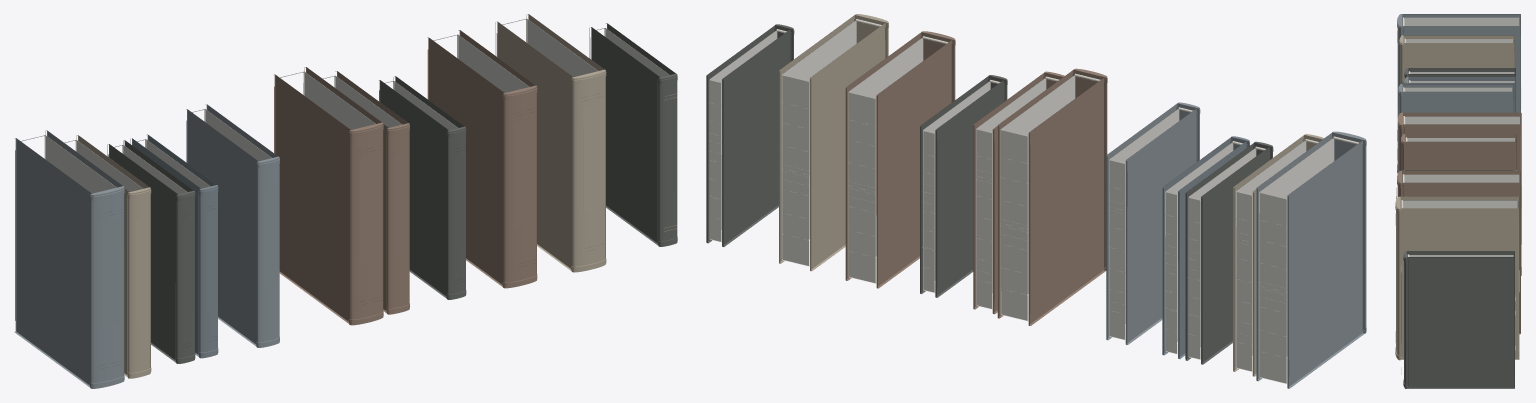
File: X14_LRSGRAY_BOOKS_S00_bk0.glb
The picture shows the model from 3 angles, left to right: view 1: azimuth 30°, elevation 25°; view 2: azimuth 150°, elevation 25°; view 3: azimuth 270°, elevation 25°; orthographic projection. The views are drawn at different scales.
Parts seen in each view (by area): view 1: S01_DENSE_ARCHIVAL_A_S01_DENSE_ARCHIVAL_B03_book_05_cover_-1, S01_DENSE_ARCHIVAL_A_S01_DENSE_ARCHIVAL_B12_book_05_cover_-1, S01_DENSE_ARCHIVAL_A_S01_DENSE_ARCHIVAL_B17_book_05_cover_-1, S01_DENSE_ARCHIVAL_A_S01_DENSE_ARCHIVAL_B22_book_03_cover_-1, S01_DENSE_ARCHIVAL_A_S01_DENSE_ARCHIVAL_B09_book_01_cover_-1, S01_DENSE_ARCHIVAL_A_S01_DENSE_ARCHIVAL_B19_book_05_cover_-1, S01_DENSE_ARCHIVAL_A_S01_DENSE_ARCHIVAL_B15_book_03_cover_-1, S01_DENSE_ARCHIVAL_A_S01_DENSE_ARCHIVAL_B06_book_03_cover_-1, S01_DENSE_ARCHIVAL_A_S01_DENSE_ARCHIVAL_B03_book_05_spine, S01_DENSE_ARCHIVAL_A_S01_DENSE_ARCHIVAL_B12_book_05_spine, S01_DENSE_ARCHIVAL_A_S01_DENSE_ARCHIVAL_B19_book_05_spine, S01_DENSE_ARCHIVAL_A_S01_DENSE_ARCHIVAL_B17_book_05_spine (+32 smaller); view 2: S01_DENSE_ARCHIVAL_A_S01_DENSE_ARCHIVAL_B03_book_05_cover_-1, S01_DENSE_ARCHIVAL_A_S01_DENSE_ARCHIVAL_B12_book_05_cover_-1, S01_DENSE_ARCHIVAL_A_S01_DENSE_ARCHIVAL_B17_book_05_cover_-1, S01_DENSE_ARCHIVAL_A_S01_DENSE_ARCHIVAL_B22_book_03_cover_-1, S01_DENSE_ARCHIVAL_A_S01_DENSE_ARCHIVAL_B09_book_01_cover_-1, S01_DENSE_ARCHIVAL_A_S01_DENSE_ARCHIVAL_B19_book_05_cover_-1, S01_DENSE_ARCHIVAL_A_S01_DENSE_ARCHIVAL_B15_book_03_cover_-1, S01_DENSE_ARCHIVAL_A_S01_DENSE_ARCHIVAL_B03_book_05_pages, S01_DENSE_ARCHIVAL_A_S01_DENSE_ARCHIVAL_B17_book_05_pages, S01_DENSE_ARCHIVAL_A_S01_DENSE_ARCHIVAL_B12_book_05_pages, S01_DENSE_ARCHIVAL_A_S01_DENSE_ARCHIVAL_B19_book_05_pages, S01_DENSE_ARCHIVAL_A_S01_DENSE_ARCHIVAL_B06_book_03_cover_-1 (+25 smaller); view 3: S01_DENSE_ARCHIVAL_A_S01_DENSE_ARCHIVAL_B22_book_03_cover_1, S01_DENSE_ARCHIVAL_A_S01_DENSE_ARCHIVAL_B19_book_05_cover_1, S01_DENSE_ARCHIVAL_A_S01_DENSE_ARCHIVAL_B22_book_03_TITLE_SU, S01_DENSE_ARCHIVAL_A_S01_DENSE_ARCHIVAL_B13_book_01_cover_1, S01_DENSE_ARCHIVAL_A_S01_DENSE_ARCHIVAL_B04_book_01_cover_1, S01_DENSE_ARCHIVAL_A_S01_DENSE_ARCHIVAL_B09_book_01_cover_1, S01_DENSE_ARCHIVAL_A_S01_DENSE_ARCHIVAL_B17_book_05_cover_1, S01_DENSE_ARCHIVAL_A_S01_DENSE_ARCHIVAL_B12_book_05_cover_1, S01_DENSE_ARCHIVAL_A_S01_DENSE_ARCHIVAL_B03_book_05_cover_1, S01_DENSE_ARCHIVAL_A_S01_DENSE_ARCHIVAL_B03_book_05_pages, S01_DENSE_ARCHIVAL_A_S01_DENSE_ARCHIVAL_B17_book_05_pages, S01_DENSE_ARCHIVAL_A_S01_DENSE_ARCHIVAL_B12_book_05_pages (+31 smaller).
Boxes of the visible parts, box(x1,y1,x2,y2) form: S01_DENSE_ARCHIVAL_A_S01_DENSE_ARCHIVAL_B03_book_05_cover_-1: box(14, 138, 91, 387); S01_DENSE_ARCHIVAL_A_S01_DENSE_ARCHIVAL_B12_book_05_cover_-1: box(274, 74, 350, 323); S01_DENSE_ARCHIVAL_A_S01_DENSE_ARCHIVAL_B17_book_05_cover_-1: box(427, 37, 504, 286); S01_DENSE_ARCHIVAL_A_S01_DENSE_ARCHIVAL_B22_book_03_cover_-1: box(589, 27, 660, 245); S01_DENSE_ARCHIVAL_A_S01_DENSE_ARCHIVAL_B09_book_01_cover_-1: box(186, 109, 258, 346); S01_DENSE_ARCHIVAL_A_S01_DENSE_ARCHIVAL_B19_book_05_cover_-1: box(495, 21, 573, 270); S01_DENSE_ARCHIVAL_A_S01_DENSE_ARCHIVAL_B15_book_03_cover_-1: box(379, 80, 448, 298); S01_DENSE_ARCHIVAL_A_S01_DENSE_ARCHIVAL_B06_book_03_cover_-1: box(107, 144, 177, 362); S01_DENSE_ARCHIVAL_A_S01_DENSE_ARCHIVAL_B03_book_05_spine: box(90, 186, 124, 388); S01_DENSE_ARCHIVAL_A_S01_DENSE_ARCHIVAL_B12_book_05_spine: box(349, 122, 383, 325); S01_DENSE_ARCHIVAL_A_S01_DENSE_ARCHIVAL_B19_book_05_spine: box(571, 69, 605, 272); S01_DENSE_ARCHIVAL_A_S01_DENSE_ARCHIVAL_B17_book_05_spine: box(503, 85, 536, 288); S01_DENSE_ARCHIVAL_A_S01_DENSE_ARCHIVAL_B03_book_05_cover_-1: box(1287, 140, 1366, 388); S01_DENSE_ARCHIVAL_A_S01_DENSE_ARCHIVAL_B12_book_05_cover_-1: box(1028, 77, 1105, 325); S01_DENSE_ARCHIVAL_A_S01_DENSE_ARCHIVAL_B17_book_05_cover_-1: box(876, 40, 952, 288); S01_DENSE_ARCHIVAL_A_S01_DENSE_ARCHIVAL_B22_book_03_cover_-1: box(722, 29, 793, 246); S01_DENSE_ARCHIVAL_A_S01_DENSE_ARCHIVAL_B09_book_01_cover_-1: box(1125, 108, 1196, 344); S01_DENSE_ARCHIVAL_A_S01_DENSE_ARCHIVAL_B19_book_05_cover_-1: box(809, 23, 885, 271); S01_DENSE_ARCHIVAL_A_S01_DENSE_ARCHIVAL_B15_book_03_cover_-1: box(935, 79, 1007, 297); S01_DENSE_ARCHIVAL_A_S01_DENSE_ARCHIVAL_B03_book_05_pages: box(1259, 138, 1357, 383); S01_DENSE_ARCHIVAL_A_S01_DENSE_ARCHIVAL_B17_book_05_pages: box(848, 37, 946, 283); S01_DENSE_ARCHIVAL_A_S01_DENSE_ARCHIVAL_B12_book_05_pages: box(1000, 75, 1097, 321); S01_DENSE_ARCHIVAL_A_S01_DENSE_ARCHIVAL_B19_book_05_pages: box(782, 20, 879, 266); S01_DENSE_ARCHIVAL_A_S01_DENSE_ARCHIVAL_B06_book_03_cover_-1: box(1201, 146, 1272, 364); S01_DENSE_ARCHIVAL_A_S01_DENSE_ARCHIVAL_B22_book_03_cover_1: box(1407, 257, 1514, 388); S01_DENSE_ARCHIVAL_A_S01_DENSE_ARCHIVAL_B19_book_05_cover_1: box(1400, 208, 1519, 359); S01_DENSE_ARCHIVAL_A_S01_DENSE_ARCHIVAL_B22_book_03_TITLE_SU: box(1424, 287, 1492, 339); S01_DENSE_ARCHIVAL_A_S01_DENSE_ARCHIVAL_B13_book_01_cover_1: box(1405, 141, 1516, 170); S01_DENSE_ARCHIVAL_A_S01_DENSE_ARCHIVAL_B04_book_01_cover_1: box(1403, 43, 1514, 68); S01_DENSE_ARCHIVAL_A_S01_DENSE_ARCHIVAL_B09_book_01_cover_1: box(1402, 91, 1513, 112); S01_DENSE_ARCHIVAL_A_S01_DENSE_ARCHIVAL_B17_book_05_cover_1: box(1402, 182, 1520, 334); S01_DENSE_ARCHIVAL_A_S01_DENSE_ARCHIVAL_B12_book_05_cover_1: box(1403, 124, 1521, 275); S01_DENSE_ARCHIVAL_A_S01_DENSE_ARCHIVAL_B03_book_05_cover_1: box(1402, 26, 1520, 112); S01_DENSE_ARCHIVAL_A_S01_DENSE_ARCHIVAL_B03_book_05_pages: box(1404, 17, 1520, 25); S01_DENSE_ARCHIVAL_A_S01_DENSE_ARCHIVAL_B17_book_05_pages: box(1404, 174, 1520, 182); S01_DENSE_ARCHIVAL_A_S01_DENSE_ARCHIVAL_B12_book_05_pages: box(1405, 116, 1520, 124).
Bounding box in the file's own units: 0.7262 × 0.228 × 0.1737.
